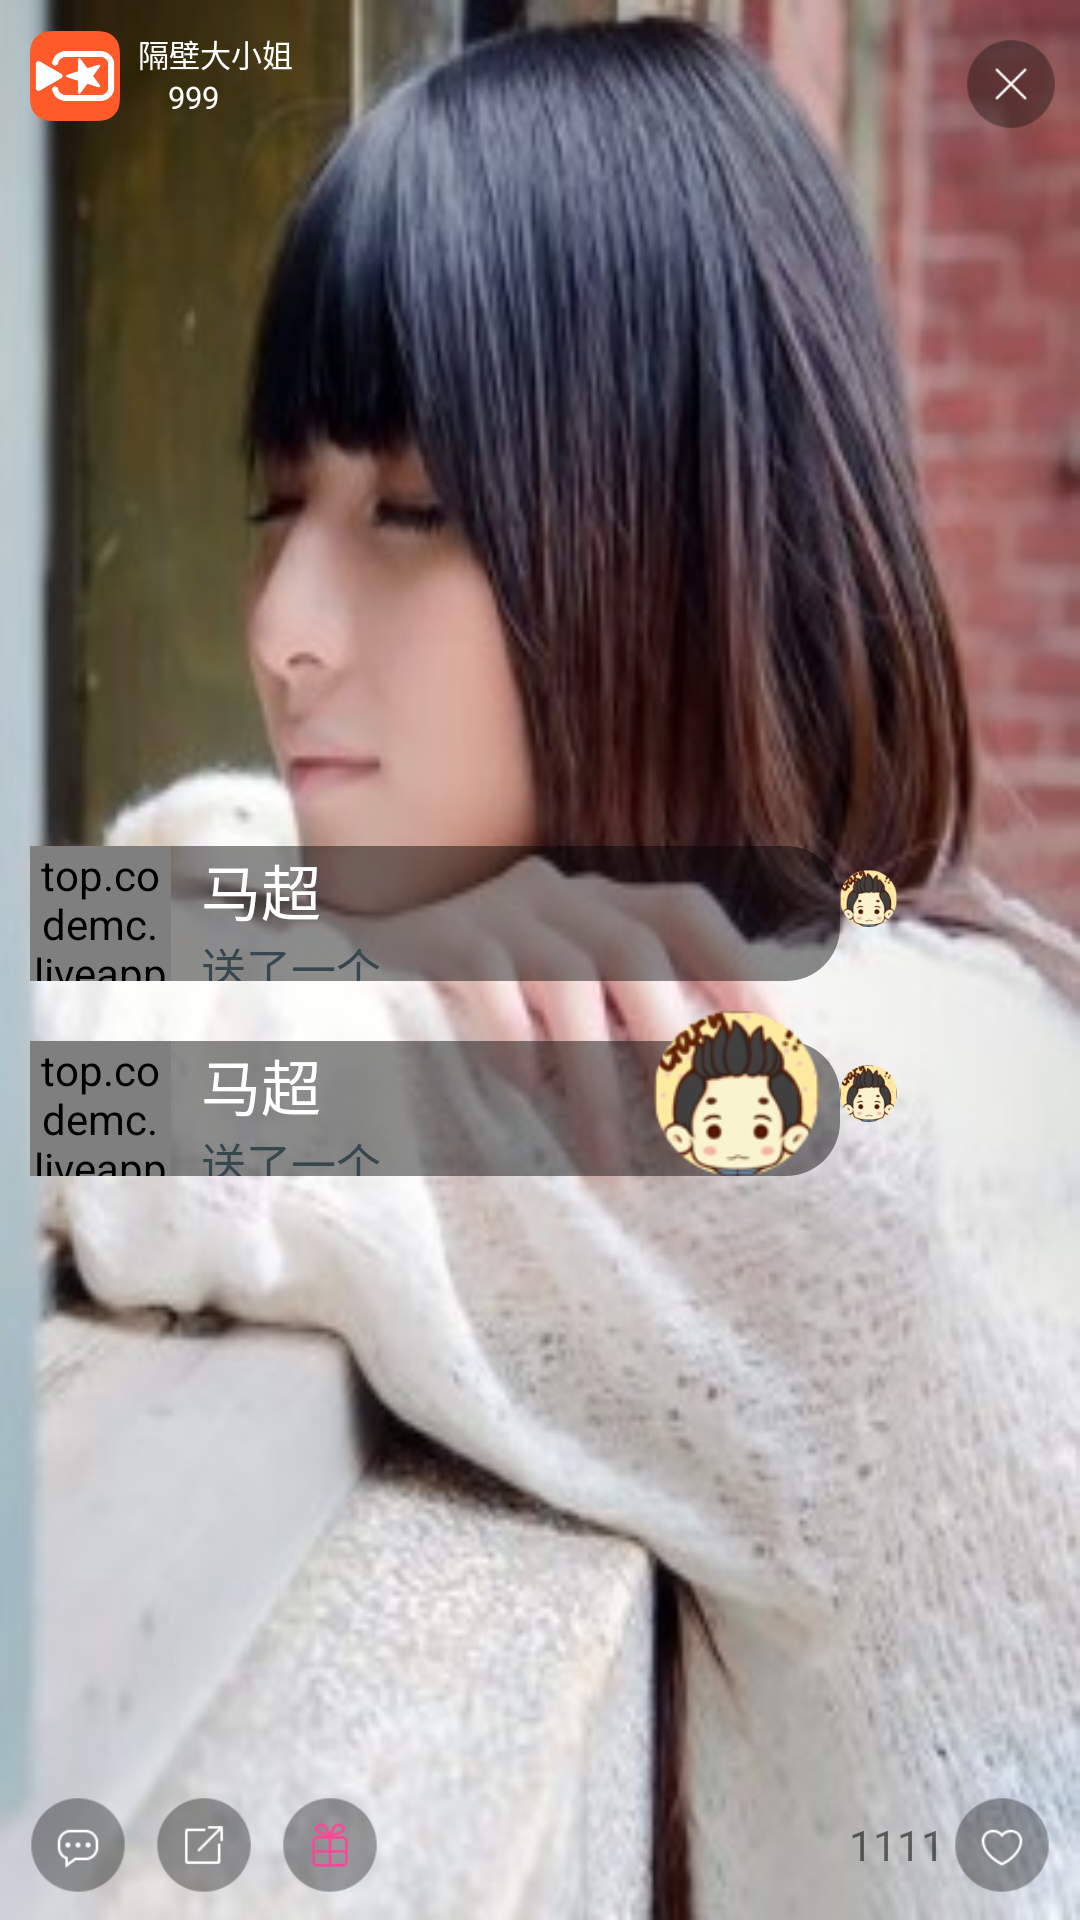

Named icons in this screenshot (1080×1920) and their bounding boxes, (x1, y1, x2, y2):
live close: (967, 24, 1055, 128)
live send gift: (283, 1798, 377, 1892)
live send heart: (955, 1797, 1050, 1893)
live send msg: (31, 1798, 125, 1892)
live share: (157, 1798, 251, 1892)
